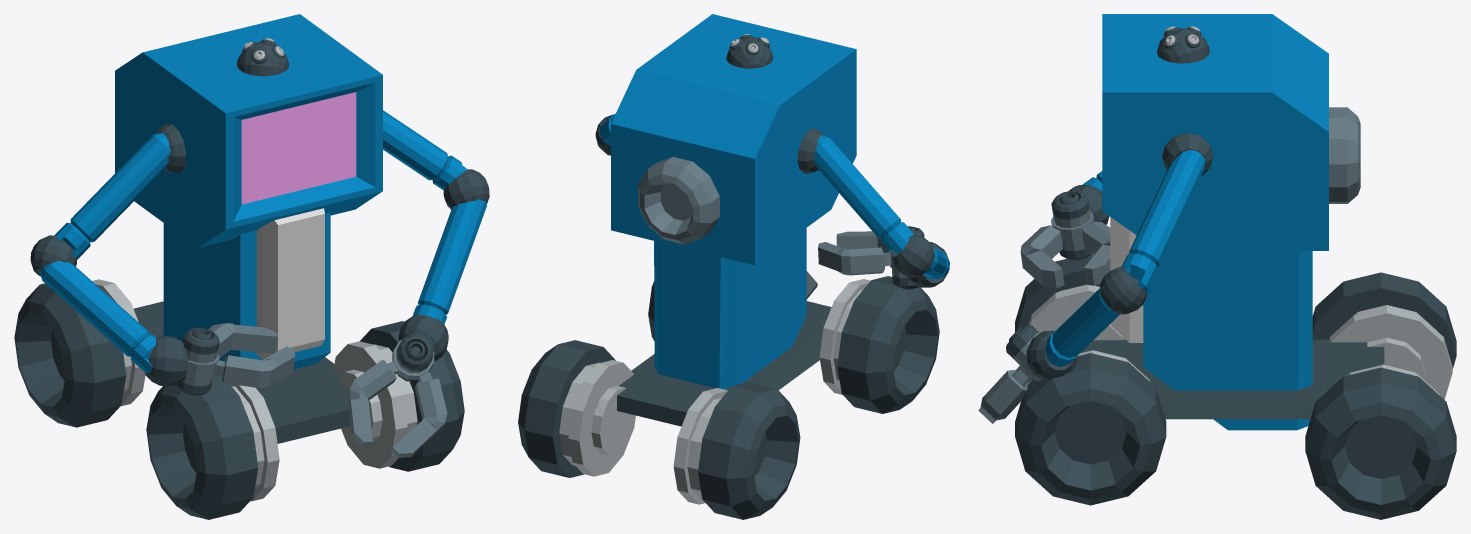
File: robot-con-brazos.glb
3 views of the same model, side by side, from view 1: azimuth 30°, elevation 25°; view 2: azimuth 150°, elevation 25°; view 3: azimuth 270°, elevation 25° (orthographic). The views are drawn at different scales.
Visible parts, largest first — view 1: node_MeshObject1434769024-PolyPaper15, node_MeshObject1689693568-PolyPaper21, node_MeshObject1953489088-PolyGem25; view 2: node_MeshObject1434769024-PolyPaper15, node_MeshObject1689693568-PolyPaper21; view 3: node_MeshObject1434769024-PolyPaper15, node_MeshObject1689693568-PolyPaper21.
Boxes of the visible parts, left/top/right/bottom form: node_MeshObject1434769024-PolyPaper15: left=30, top=14, right=489, bottom=519; node_MeshObject1689693568-PolyPaper21: left=14, top=38, right=448, bottom=501; node_MeshObject1953489088-PolyGem25: left=241, top=92, right=356, bottom=204; node_MeshObject1434769024-PolyPaper15: left=518, top=14, right=949, bottom=504; node_MeshObject1689693568-PolyPaper21: left=559, top=39, right=949, bottom=519; node_MeshObject1434769024-PolyPaper15: left=978, top=14, right=1456, bottom=519; node_MeshObject1689693568-PolyPaper21: left=981, top=34, right=1456, bottom=457.
Size of the model in its own units: 1.21 by 1.2 by 1.2.
